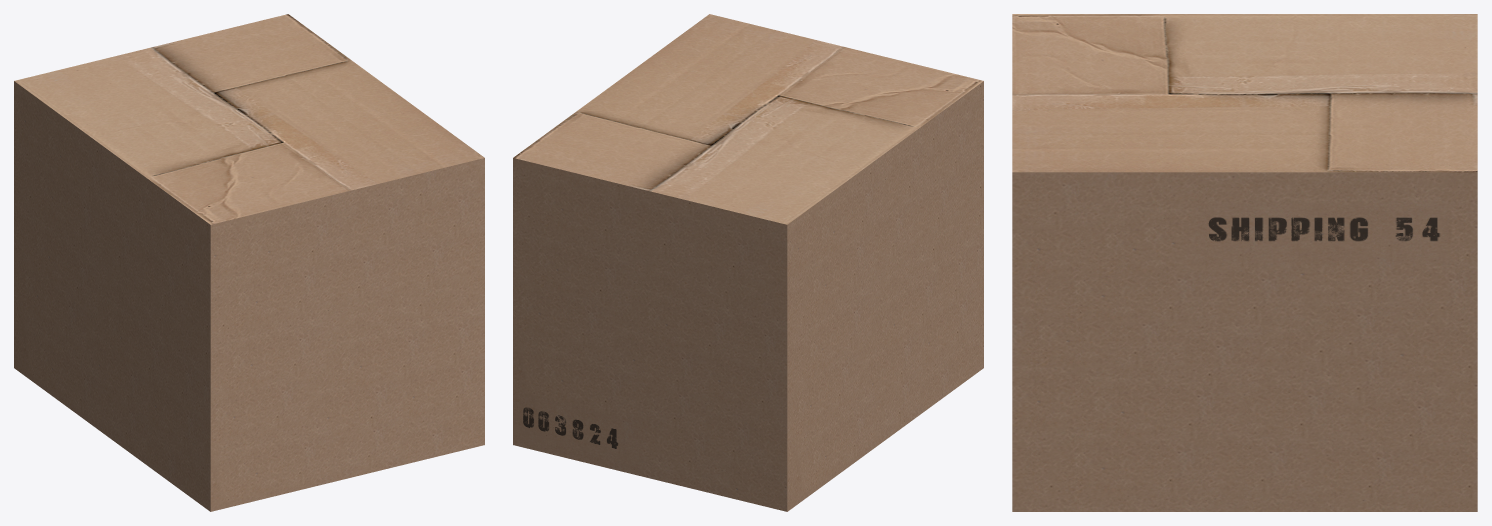
3 views of the same model, side by side, from view 1: azimuth 30°, elevation 25°; view 2: azimuth 150°, elevation 25°; view 3: azimuth 270°, elevation 25° (orthographic). The views are drawn at different scales.
Visible parts, largest first — view 1: pCube1; view 2: pCube1; view 3: pCube1.
Boxes of the visible parts, bbox=[...] form: pCube1: bbox=[14, 14, 484, 511]; pCube1: bbox=[513, 14, 983, 511]; pCube1: bbox=[1012, 14, 1477, 511].
Size of the model in its own units: 1 by 1 by 1.24.
